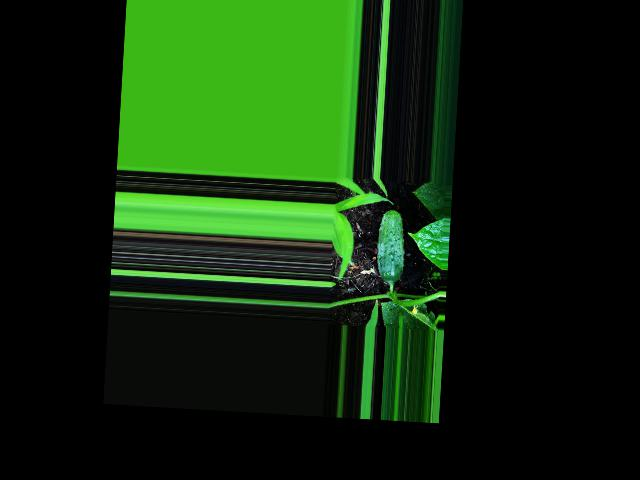cucumber: (374, 208, 406, 283)
